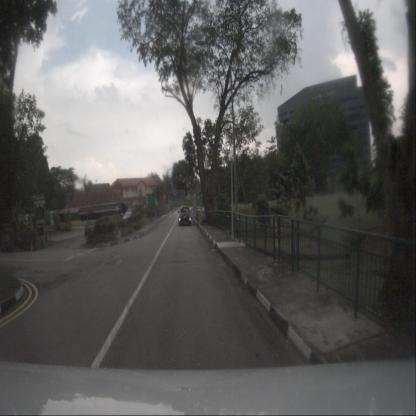movable_object-trafficcone: (30, 240, 34, 251)
vehicle-car: (178, 205, 192, 226), (123, 211, 133, 221)
